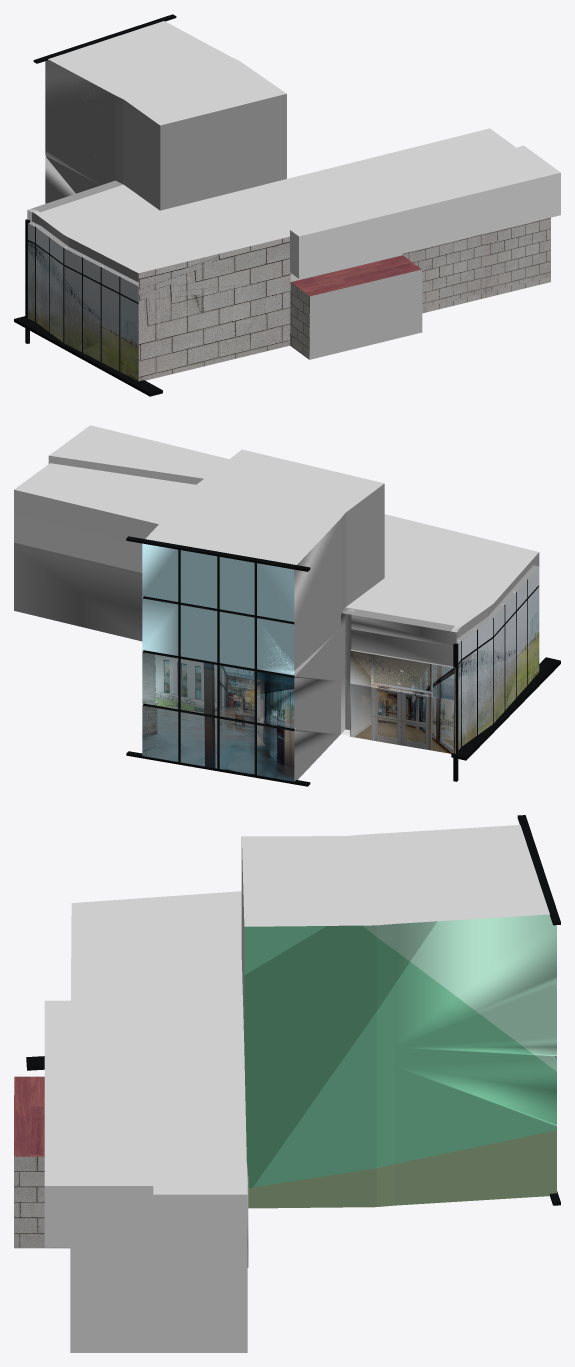
File: exhibit.fbx
3 renders of one model, top to bottom at view 1: azimuth 30°, elevation 25°; view 2: azimuth 150°, elevation 25°; view 3: azimuth 270°, elevation 25°, orthographic. The views are drawn at different scales.
Visible parts, largest first — view 1: Cube.001, Cube.007, Cube, Cube.006, Cube.004; view 2: Cube.001, Cube.007, Cube, Cube.006, Cube.004, Cube.003, Cube.005; view 3: Cube.001, Cube.007, Cube, Cube.004.
Boxes of the visible parts, left/top/right/bottom form: Cube.001: left=27, top=21, right=550, bottom=381; Cube.007: left=27, top=22, right=550, bottom=380; Cube: left=290, top=145, right=560, bottom=278; Cube.006: left=14, top=316, right=162, bottom=396; Cube.004: left=33, top=14, right=176, bottom=63; Cube.001: left=14, top=449, right=539, bottom=781; Cube.007: left=14, top=450, right=539, bottom=780; Cube: left=48, top=425, right=228, bottom=484; Cube.006: left=451, top=657, right=560, bottom=760; Cube.004: left=126, top=536, right=310, bottom=571; Cube.003: left=126, top=751, right=310, bottom=786; Cube.005: left=453, top=643, right=458, bottom=781; Cube.001: left=14, top=825, right=556, bottom=1352; Cube.007: left=14, top=826, right=556, bottom=1352; Cube: left=44, top=1000, right=153, bottom=1247; Cube.004: left=517, top=815, right=560, bottom=925.
Size of the model in its own units: 1731 by 821 by 1278.
